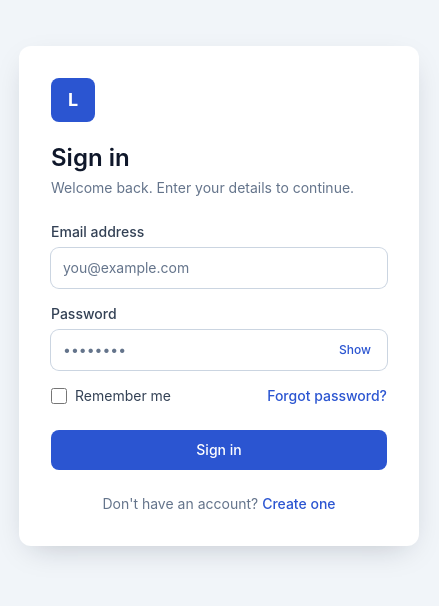
Test: login flow › shows a generic banner on bad credentials and stays on the login page
Step 1. Type "user@example.com" into the field labelled "Email address" → {"x": 219, "y": 268}, box [51,248,387,288]
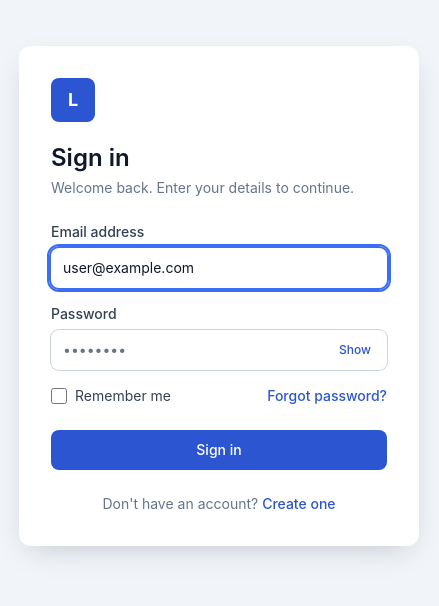
Step 2. Type "wrong-password-1" into the password field labelled "Password" → {"x": 219, "y": 350}, box [51,330,387,370]
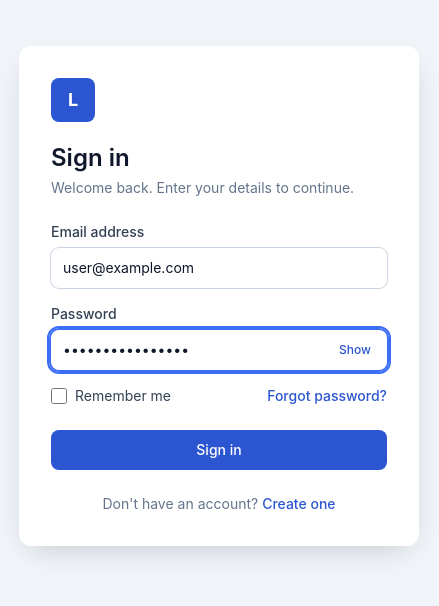
Step 3. Click the button "Sign in" → {"x": 219, "y": 450}, box [51,430,387,470]
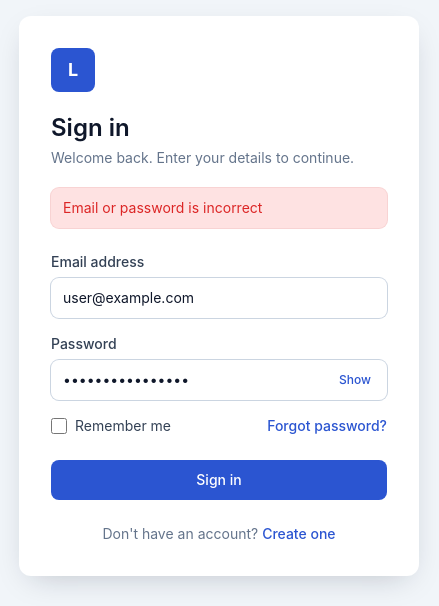
Check: the message does not show "email address", box [51,188,387,228]
Check: the message reads "Email or password is incorrect", box [63,199,262,216]
